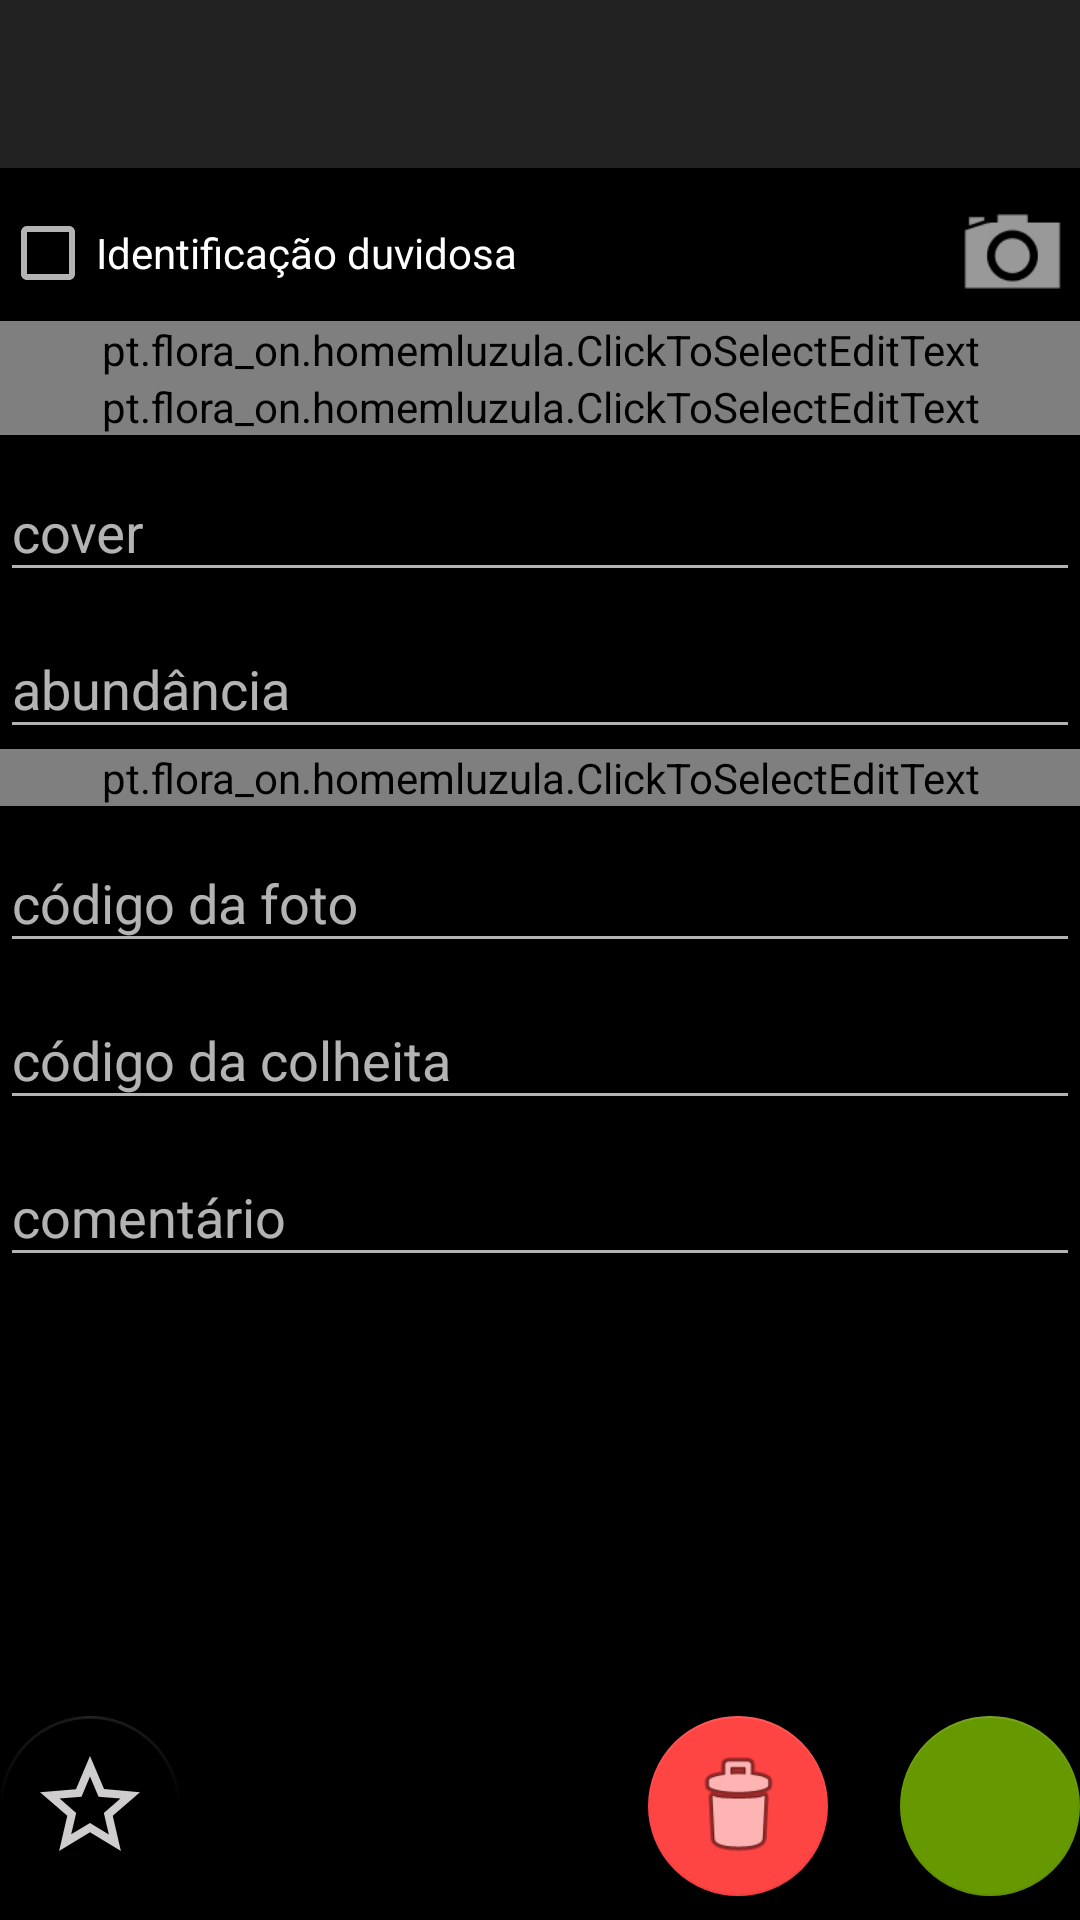

Icons on this 1080*1920 Android screen, each with the point to tap as (x=x, y=y):
delete: (x=738, y=1806)
star border: (x=90, y=1783)
